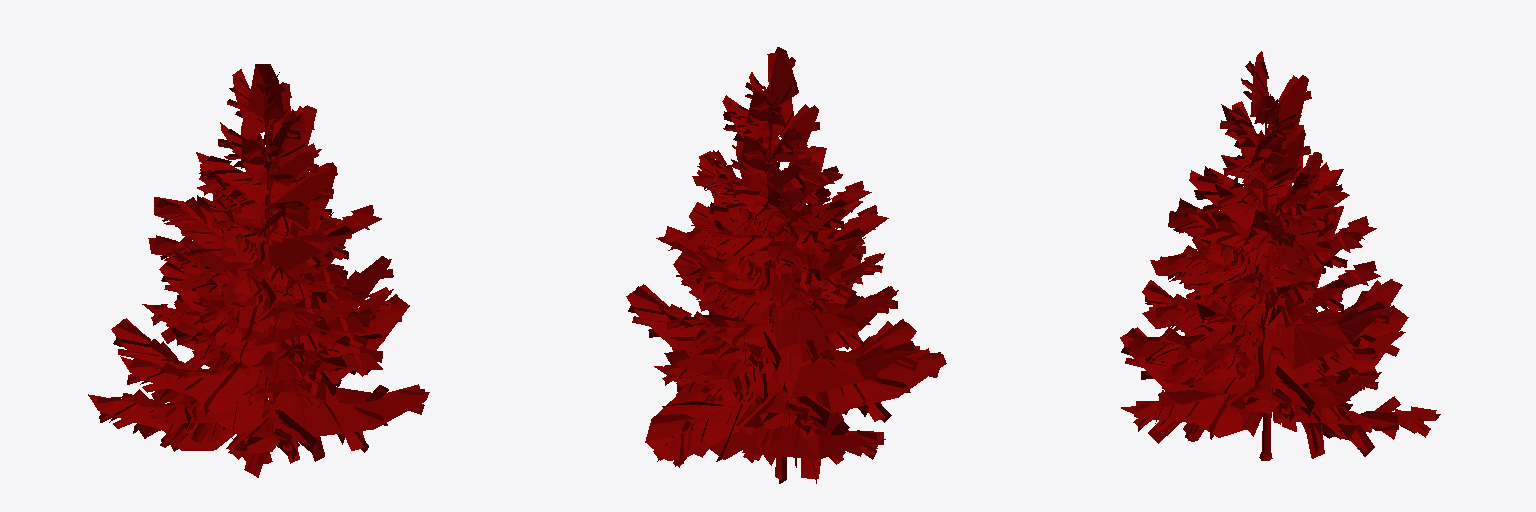
3 renders of one model, left to right at view 1: azimuth 30°, elevation 25°; view 2: azimuth 150°, elevation 25°; view 3: azimuth 270°, elevation 25°, orthographic.
Parts seen in each view (by area): view 1: AM113_040_Picea; view 2: AM113_040_Picea; view 3: AM113_040_Picea.
Part boxes in pixels (left/top/right/bottom): AM113_040_Picea: left=88, top=64, right=429, bottom=477; AM113_040_Picea: left=626, top=47, right=946, bottom=483; AM113_040_Picea: left=1120, top=51, right=1440, bottom=460.
Size of the model in its own units: 5862 by 7868 by 5706.